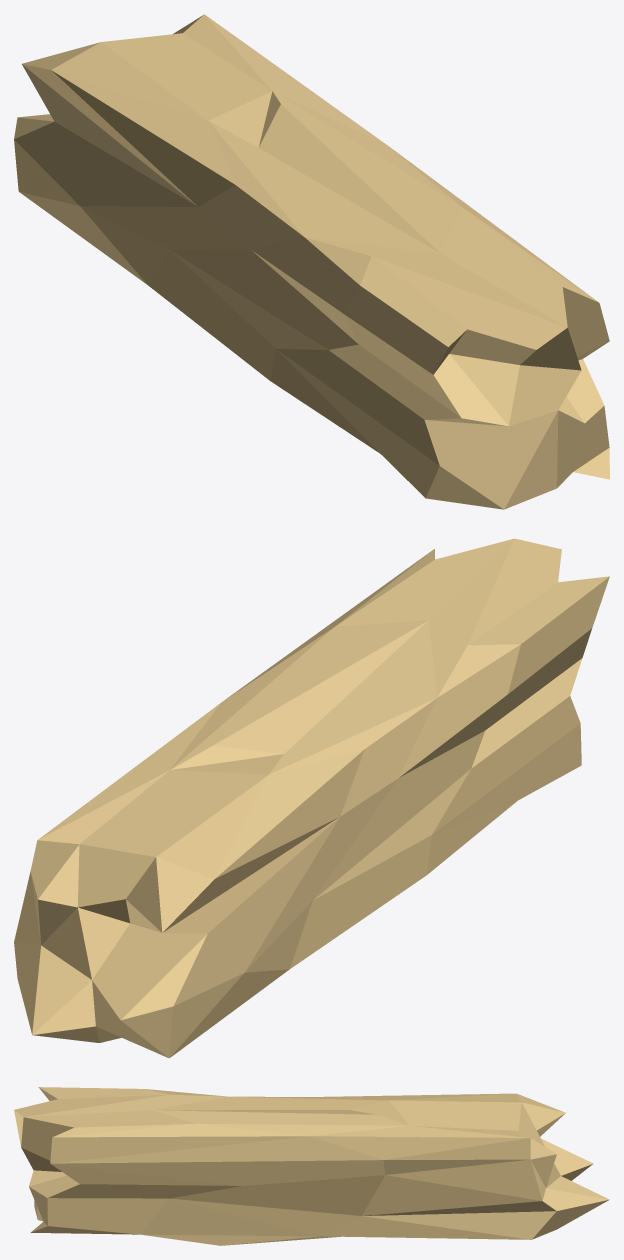
The model's file is Rock1.fbx.
3 views of the same model, one above another, from view 1: azimuth 30°, elevation 25°; view 2: azimuth 150°, elevation 25°; view 3: azimuth 270°, elevation 25° (orthographic). The views are drawn at different scales.
Visible parts, largest first — view 1: Cube; view 2: Cube; view 3: Cube.
Part boxes in pixels (box(x1,y1,x2,y2)): Cube: box(14, 14, 609, 509); Cube: box(14, 538, 609, 1058); Cube: box(14, 1087, 609, 1245).
Size of the model in its own units: 219 by 226 by 1045.
